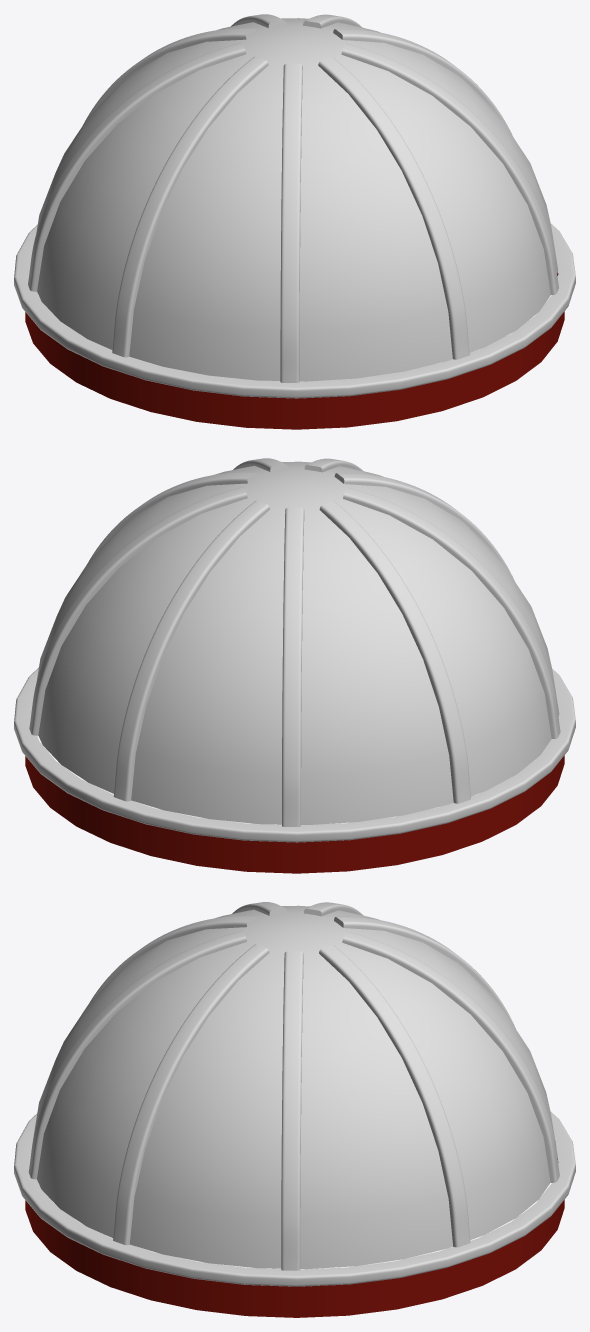
The model's file is MainTemple_04.fbx.
The picture shows the model from 3 angles, top to bottom: view 1: azimuth 30°, elevation 25°; view 2: azimuth 150°, elevation 25°; view 3: azimuth 270°, elevation 25°; orthographic projection.
Visible parts, largest first — view 1: Sphere001, Shape004, Object; view 2: Sphere001, Shape004, Object; view 3: Sphere001, Shape004, Object.
Boxes of the visible parts, x1=… form: Sphere001: x1=36, y1=18, x2=558, y2=381; Shape004: x1=28, y1=14, x2=558, y2=382; Object: x1=14, y1=223, x2=575, y2=429; Sphere001: x1=37, y1=461, x2=559, y2=824; Shape004: x1=29, y1=458, x2=560, y2=826; Object: x1=14, y1=667, x2=575, y2=873; Sphere001: x1=33, y1=905, x2=557, y2=1269; Shape004: x1=28, y1=902, x2=559, y2=1270; Object: x1=14, y1=1112, x2=575, y2=1317.
Bounding box in the file's own units: 1348 × 1349 × 725.
